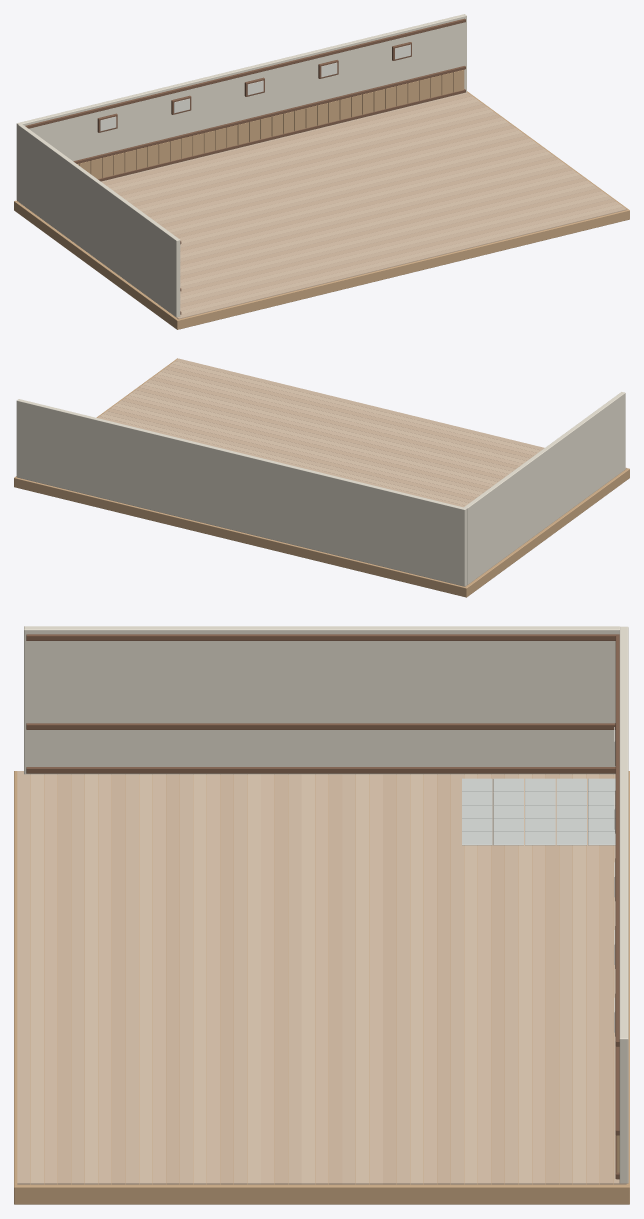
File: RoomShell.fbx
3 views of the same model, one above another, from view 1: azimuth 30°, elevation 25°; view 2: azimuth 150°, elevation 25°; view 3: azimuth 270°, elevation 25° (orthographic). The views are drawn at different scales.
Visible parts, largest first — view 1: Beige back wall, Beige side wall, Floor foundation, Oak floor board, Back timber trim.002, Oak floor board.001, Oak floor board.002, Oak floor board.003, Oak floor board.004, Oak floor board.005, Oak floor board.006, Oak floor board.007 (+39 smaller); view 2: Beige back wall, Beige side wall, Floor foundation, Oak floor board, Oak floor board.003, Oak floor board.010, Oak floor board.011, Oak floor board.016, Oak floor board.002, Oak floor board.008, Oak floor board.009, Oak floor board.012 (+14 smaller); view 3: Beige side wall, Floor foundation, Oak floor board, Oak floor board.001, Oak floor board.002, Oak floor board.004, Oak floor board.005, Oak floor board.006, Oak floor board.007, Oak floor board.008, Oak floor board.009, Oak floor board.010 (+40 smaller).
Part boxes in pixels (x1=…): Beige back wall: x1=16, y1=14, x2=466, y2=200; Beige side wall: x1=18, y1=124, x2=180, y2=317; Floor foundation: x1=14, y1=91, x2=629, y2=329; Oak floor board: x1=177, y1=206, x2=626, y2=319; Back timber trim.002: x1=25, y1=18, x2=465, y2=128; Oak floor board.001: x1=173, y1=204, x2=622, y2=316; Oak floor board.002: x1=168, y1=201, x2=619, y2=312; Oak floor board.003: x1=180, y1=199, x2=615, y2=307; Oak floor board.004: x1=161, y1=196, x2=612, y2=306; Oak floor board.005: x1=158, y1=193, x2=608, y2=305; Oak floor board.006: x1=154, y1=191, x2=604, y2=301; Oak floor board.007: x1=153, y1=188, x2=601, y2=300; Beige back wall: x1=16, y1=399, x2=466, y2=586; Beige side wall: x1=464, y1=392, x2=625, y2=584; Floor foundation: x1=14, y1=358, x2=629, y2=597; Oak floor board: x1=175, y1=358, x2=626, y2=469; Oak floor board.003: x1=165, y1=366, x2=533, y2=458; Oak floor board.010: x1=139, y1=385, x2=590, y2=495; Oak floor board.011: x1=136, y1=387, x2=504, y2=479; Oak floor board.016: x1=118, y1=400, x2=568, y2=512; Oak floor board.002: x1=168, y1=364, x2=617, y2=475; Oak floor board.008: x1=146, y1=379, x2=595, y2=491; Oak floor board.009: x1=143, y1=382, x2=592, y2=493; Oak floor board.012: x1=132, y1=390, x2=581, y2=501; Beige side wall: x1=24, y1=626, x2=619, y2=774; Floor foundation: x1=14, y1=771, x2=629, y2=1204; Oak floor board: x1=17, y1=771, x2=30, y2=1184; Oak floor board.001: x1=30, y1=774, x2=43, y2=1184; Oak floor board.002: x1=44, y1=774, x2=57, y2=1184; Oak floor board.004: x1=71, y1=774, x2=84, y2=1184; Oak floor board.005: x1=85, y1=774, x2=98, y2=1184; Oak floor board.006: x1=98, y1=774, x2=111, y2=1184; Oak floor board.007: x1=112, y1=774, x2=125, y2=1184; Oak floor board.008: x1=125, y1=774, x2=138, y2=1184; Oak floor board.009: x1=139, y1=774, x2=152, y2=1184; Oak floor board.010: x1=152, y1=774, x2=165, y2=1184.
Size of the model in its own units: 2000 by 368 by 1250.
